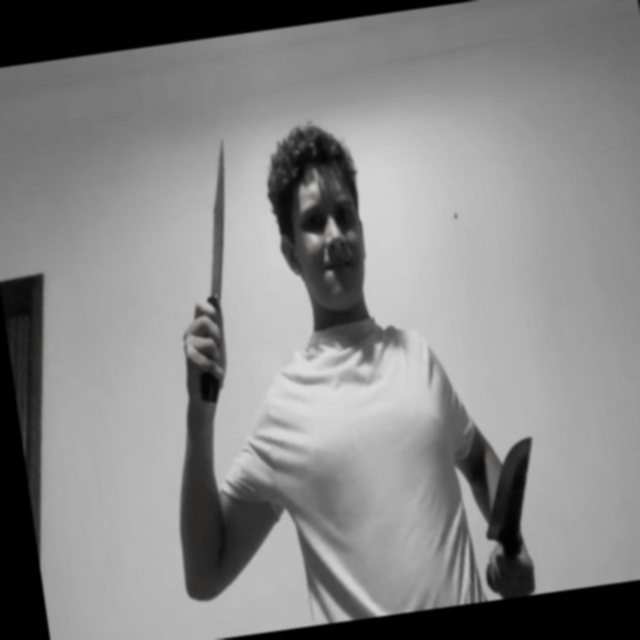Sharp-Object: (192, 138, 246, 301), (474, 435, 545, 539)
